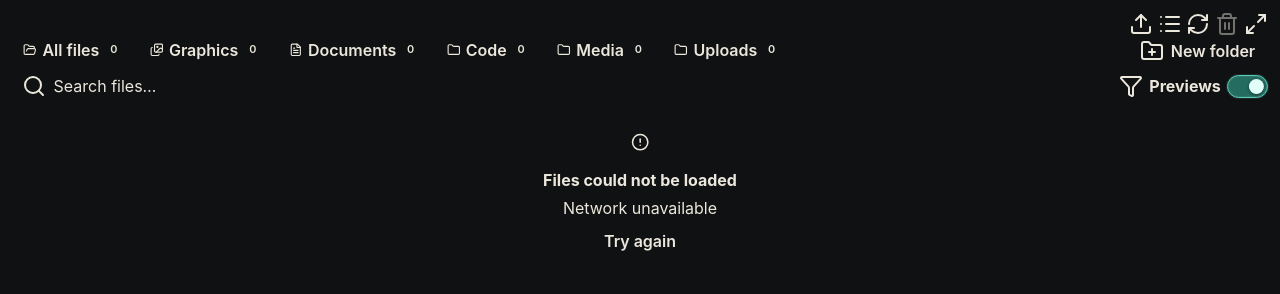
Test: AgentFilesDock › shows a retry after a failed initial load instead of claiming the room is empty
The image size is (1280, 294).
Check: the message shows "Files could not be loaded", box [543,170,737,190]
Check: the message shows "Network unavailable", box [563,198,717,218]
Click the button "Try again".
click(640, 241)  # box [591,231,689,251]
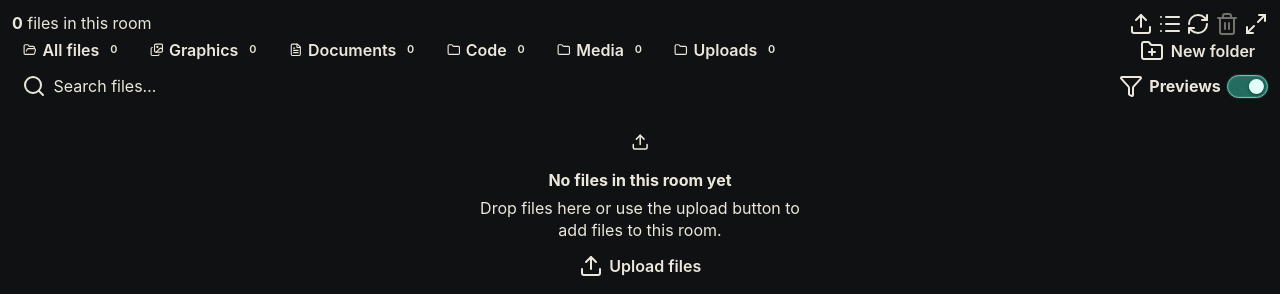
Check: the button "Upload files" is shown, box [566,254,714,278]
